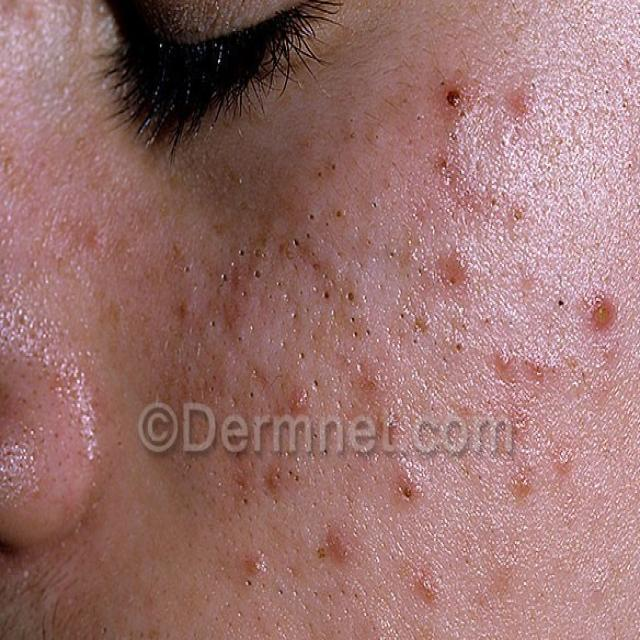Acne: (158, 124, 577, 640), (380, 29, 635, 358)
